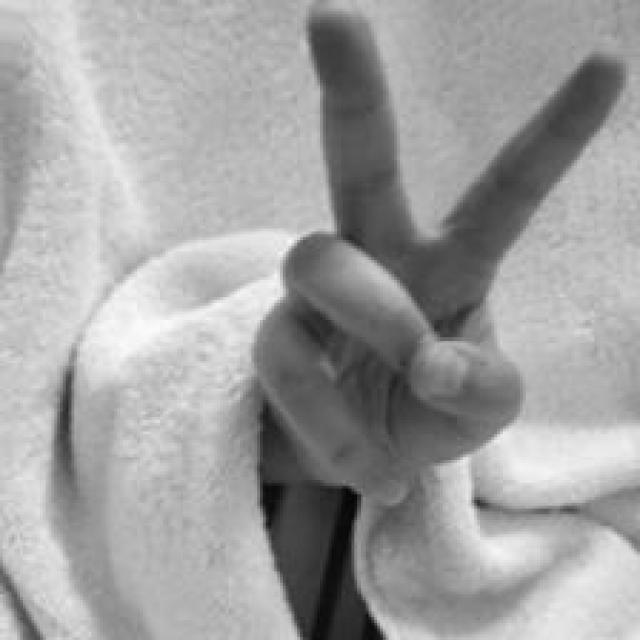V: (248, 1, 632, 516)
